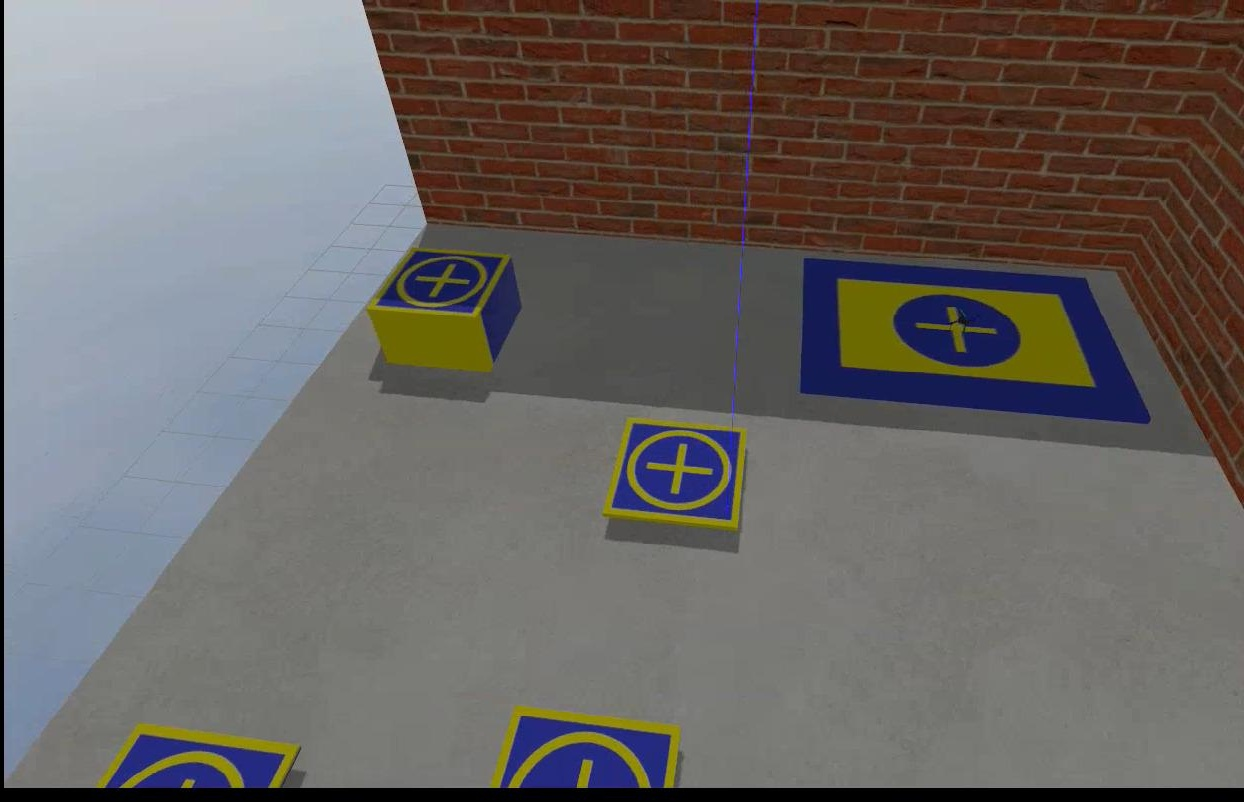large_base: (795, 259, 1145, 426)
small_base: (600, 419, 747, 535), (488, 702, 677, 791), (98, 725, 297, 788), (364, 245, 511, 322)
